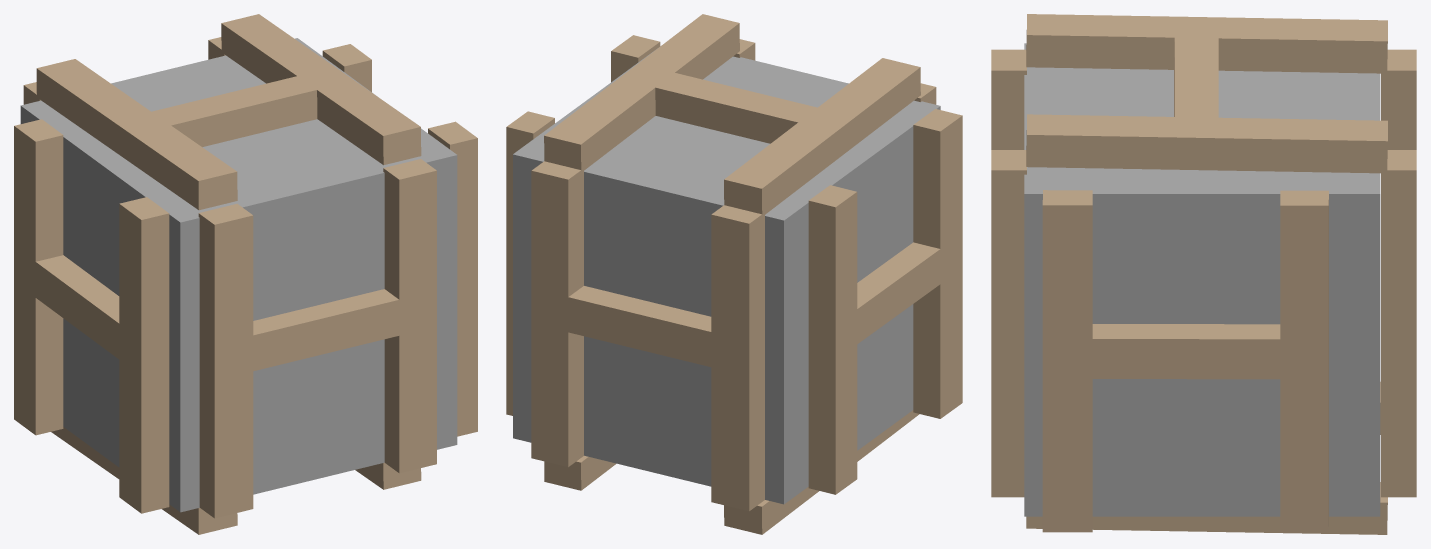
The model's file is LetterH.fbx.
3 renders of one model, left to right at view 1: azimuth 30°, elevation 25°; view 2: azimuth 150°, elevation 25°; view 3: azimuth 270°, elevation 25°, orthographic. The views are drawn at different scales.
Visible parts, largest first — view 1: Box, Text Front, Text Left, Text Top, Text Right, Text Bottom, Text Back; view 2: Box, Text Back, Text Left, Text Top, Text Right, Text Bottom, Text Front; view 3: Box, Text Right, Text Top, Text Back, Text Front, Text Bottom.
Part boxes in pixels (x1,y1,x2,y2): Box: [20, 38, 457, 512]; Text Front: [198, 159, 436, 518]; Text Left: [14, 119, 169, 513]; Text Top: [36, 14, 421, 210]; Text Right: [322, 44, 477, 436]; Text Bottom: [51, 427, 421, 534]; Text Back: [23, 37, 225, 104]; Box: [513, 48, 940, 504]; Text Back: [531, 161, 764, 511]; Text Left: [808, 109, 962, 494]; Text Top: [544, 14, 920, 214]; Text Right: [506, 35, 660, 415]; Text Bottom: [544, 410, 919, 534]; Text Front: [733, 39, 936, 104]; Box: [1024, 43, 1380, 516]; Text Right: [1042, 190, 1328, 532]; Text Top: [1026, 14, 1387, 173]; Text Back: [1381, 49, 1416, 497]; Text Front: [991, 49, 1026, 497]; Text Bottom: [1026, 381, 1387, 534].
Size of the model in its own units: 1.22 by 1.24 by 1.19.
